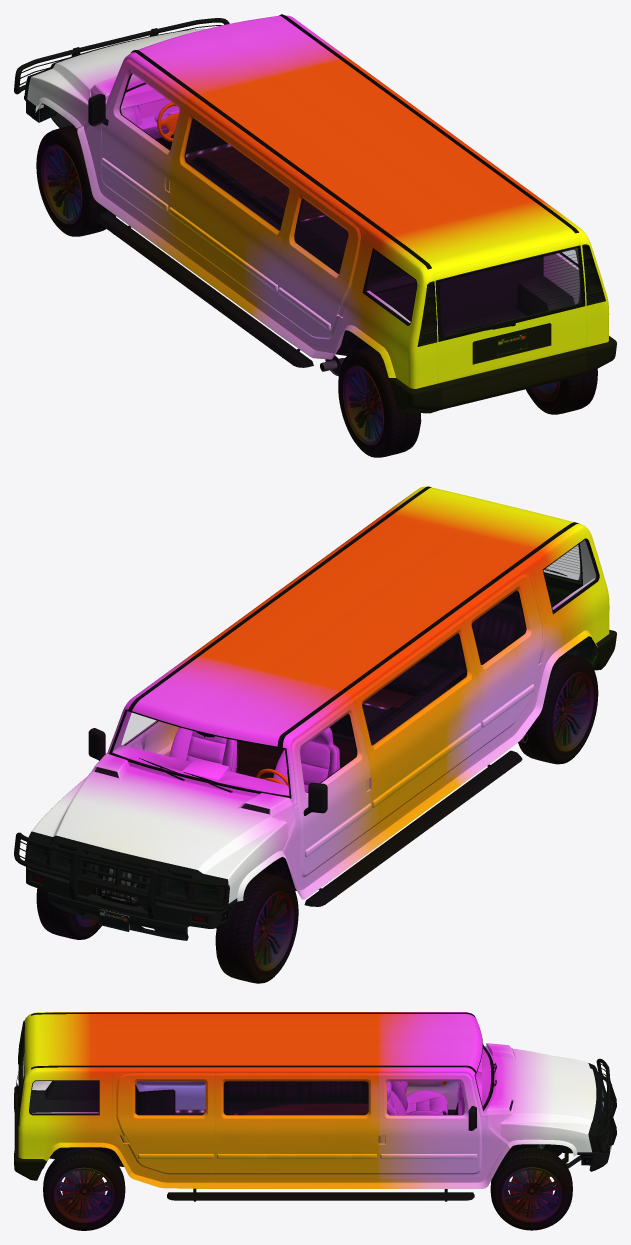
The model's file is patriot2.glb.
The picture shows the model from 3 angles, top to bottom: view 1: azimuth 30°, elevation 25°; view 2: azimuth 150°, elevation 25°; view 3: azimuth 270°, elevation 25°; orthographic projection. The views are drawn at different scales.
Visible parts, largest first — view 1: bodyshell, chassis, boot, door_dside_f, windscreen_r, door_dside_r, misc_i, bumper_r, wheel_lr, wheel_lf, window_lm, misc_c (+4 smaller); view 2: bodyshell, misc_i, chassis, door_dside_f, door_dside_r, wheel_lf, wheel_lr, window_lm, misc_c, bumper_f, window_lf, window_lr (+4 smaller); view 3: bodyshell, chassis, misc_i, door_pside_f, door_pside_r, wheel_rr, wheel_rf, window_rm, misc_c, window_rf, window_rr, misc_b (+4 smaller).
Boxes of the visible parts, <box> form: bodyshell: <box>77,14,609,388</box>; chassis: <box>31,82,580,355</box>; boot: <box>434,238,585,382</box>; door_dside_f: <box>88,59,187,239</box>; windscreen_r: <box>436,247,583,339</box>; door_dside_r: <box>278,182,366,346</box>; misc_i: <box>14,18,229,128</box>; bumper_r: <box>389,336,616,413</box>; wheel_lr: <box>338,347,421,457</box>; wheel_lf: <box>36,125,115,236</box>; window_lm: <box>184,118,288,230</box>; misc_c: <box>96,211,344,376</box>; bodyshell: <box>91,486,609,899</box>; misc_i: <box>14,773,288,919</box>; chassis: <box>47,539,598,940</box>; door_dside_f: <box>291,698,371,885</box>; door_dside_r: <box>462,568,545,755</box>; wheel_lf: <box>215,871,298,983</box>; wheel_lr: <box>518,653,598,764</box>; window_lm: <box>362,633,467,745</box>; misc_c: <box>304,734,527,906</box>; bumper_f: <box>26,867,221,928</box>; window_lf: <box>301,715,356,791</box>; window_lr: <box>472,591,525,664</box>; bodyshell: <box>18,1012,517,1188</box>; chassis: <box>23,1043,611,1171</box>; misc_i: <box>500,1048,616,1156</box>; door_pside_f: <box>378,1073,486,1179</box>; door_pside_r: <box>112,1073,215,1179</box>; wheel_rr: <box>43,1148,125,1230</box>; wheel_rf: <box>490,1147,572,1230</box>; window_rm: <box>224,1082,367,1114</box>; misc_c: <box>167,1188,474,1201</box>; window_rf: <box>387,1082,464,1114</box>; window_rr: <box>136,1082,204,1114</box>; misc_b: <box>30,1081,97,1112</box>.
Size of the model in its own units: 2.39 by 2.02 by 7.07.
20 materials, 16 textured.
